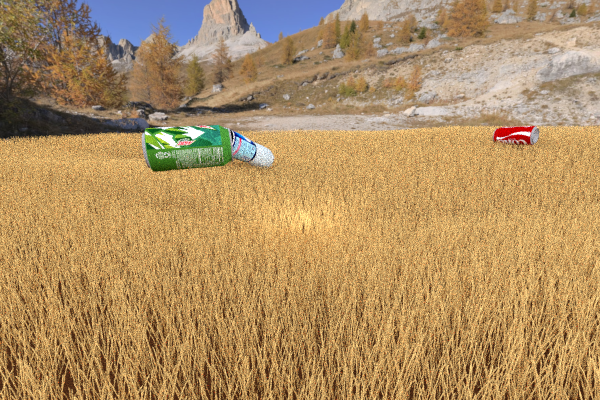bottle: (195, 124, 274, 169)
can: (141, 124, 233, 171), (492, 125, 539, 145)
